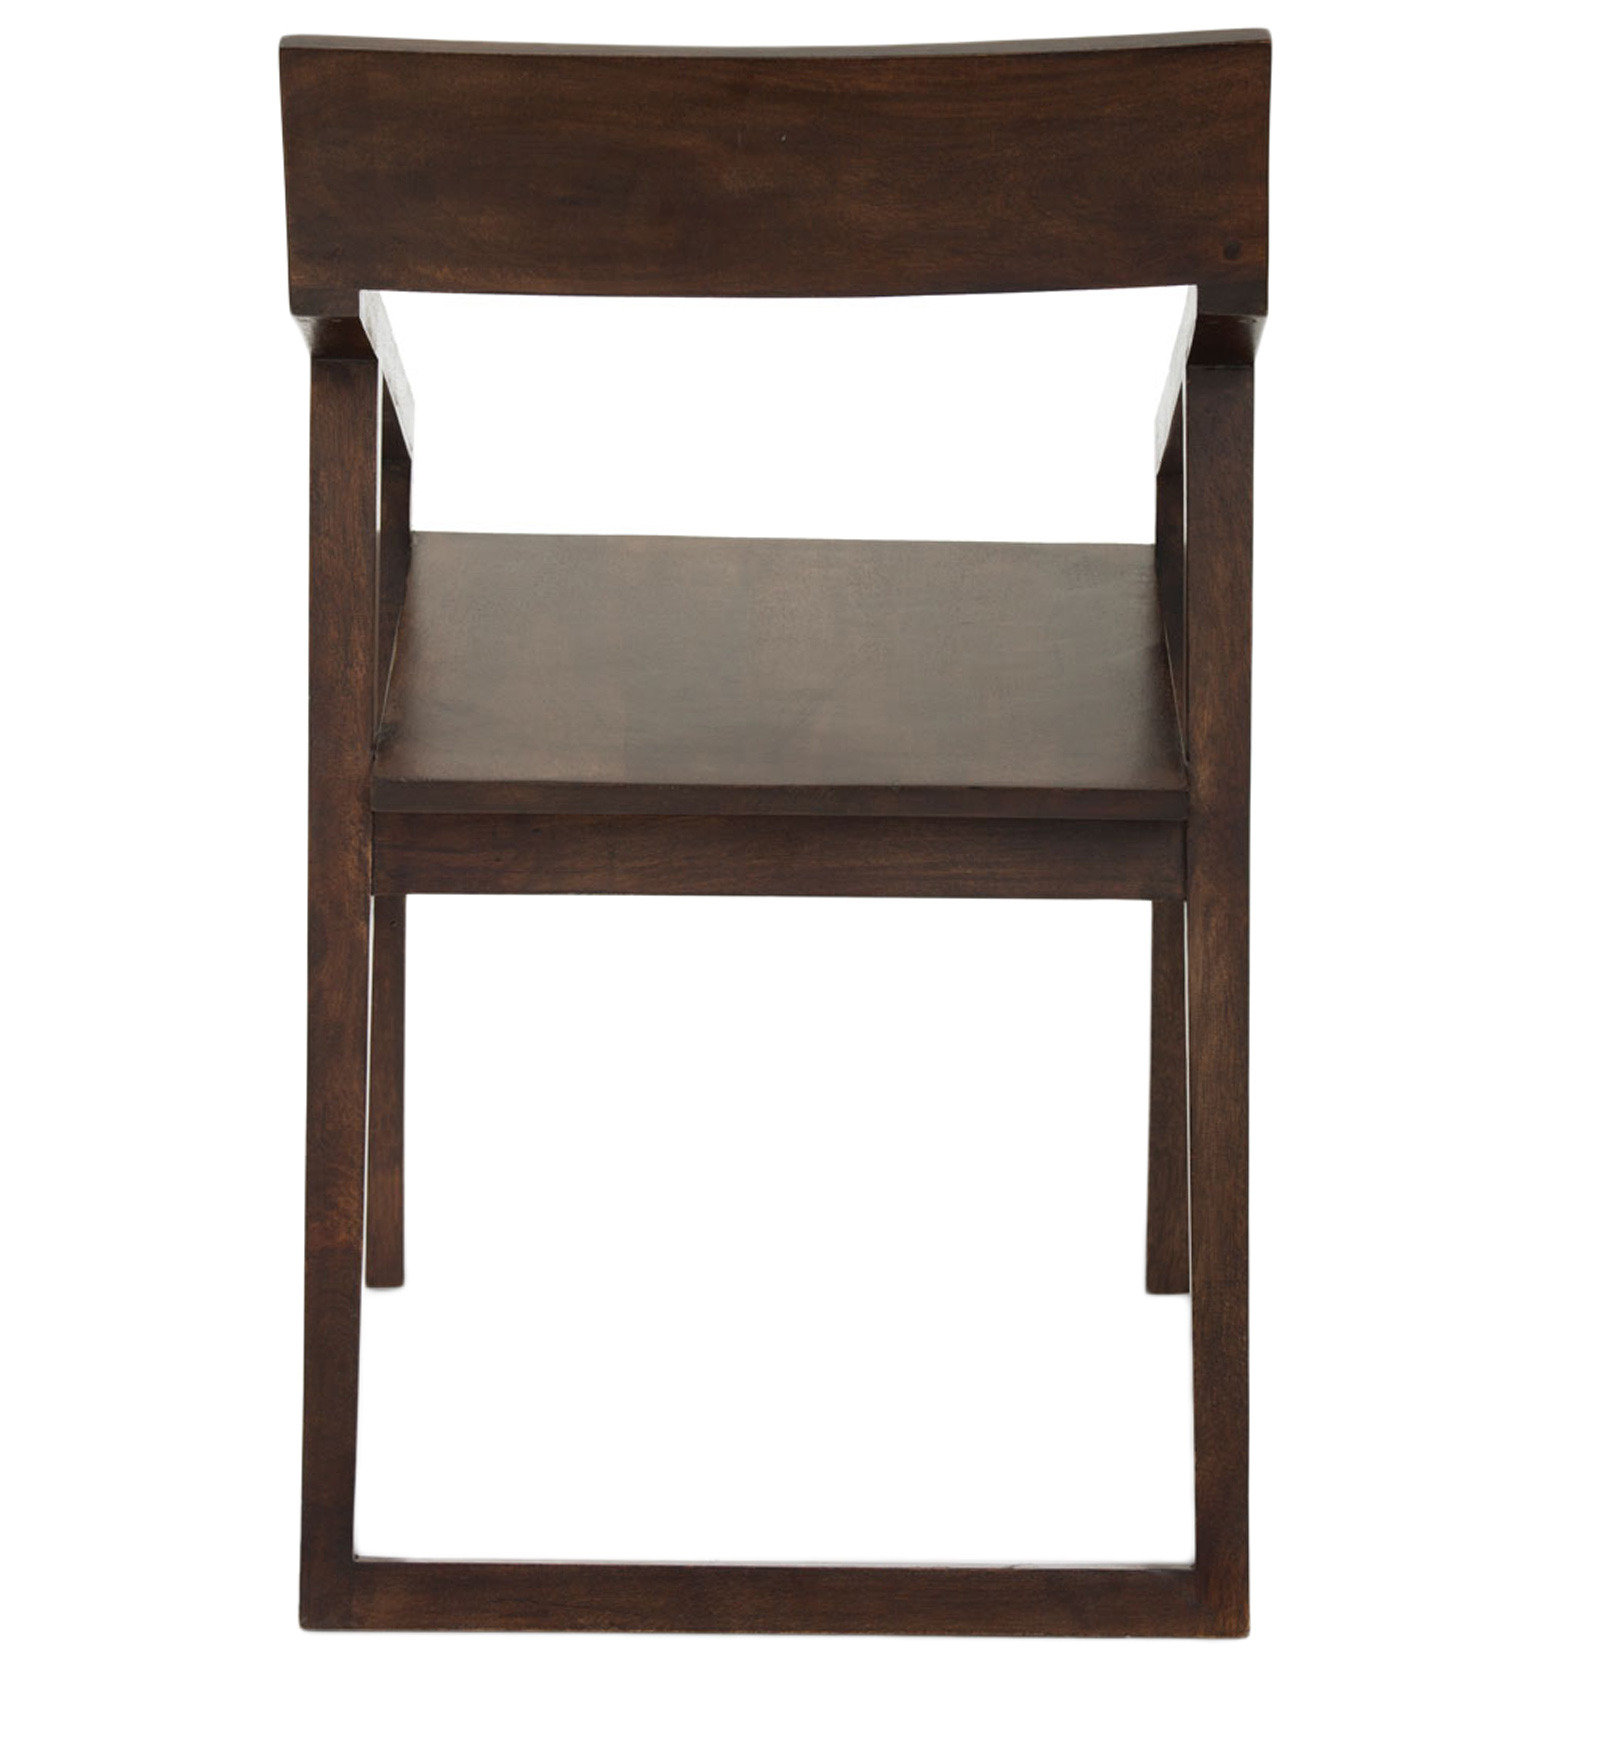Dulwich Solid Wood Arm Chair in Provincial Teak Finish by TheArmchair: (228, 12, 1304, 1677)
